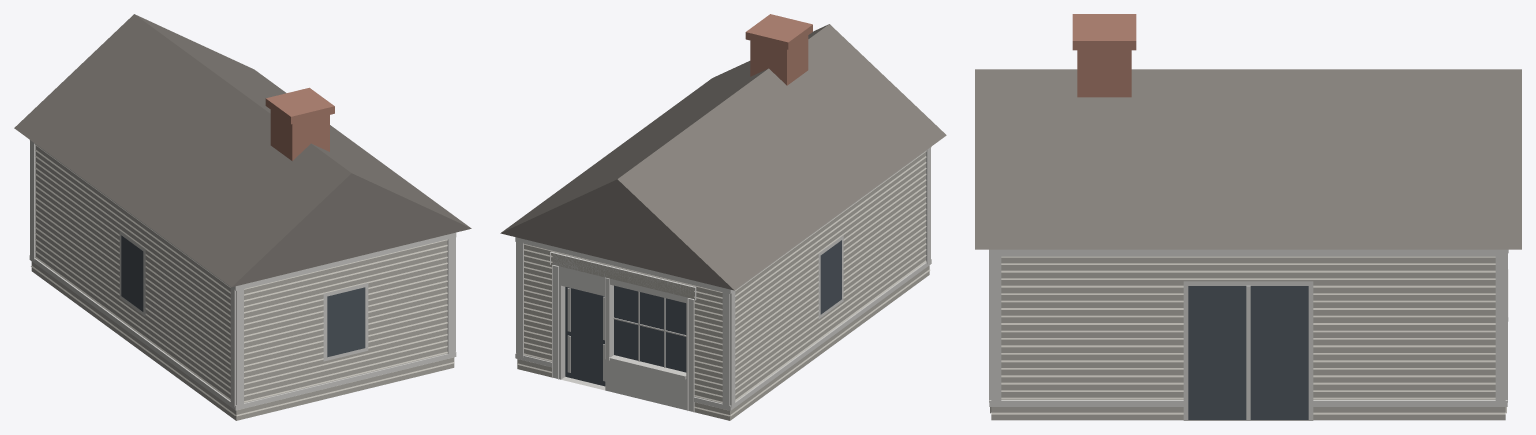
Rendered from recon_1835_west_007__inferred_1835.glb.
The picture shows the model from 3 angles, left to right: view 1: azimuth 30°, elevation 25°; view 2: azimuth 150°, elevation 25°; view 3: azimuth 270°, elevation 25°; orthographic projection. The views are drawn at different scales.
Visible parts, largest first — view 1: recon_1835_west_007__inferred_1835; view 2: recon_1835_west_007__inferred_1835; view 3: recon_1835_west_007__inferred_1835.
Part boxes in pixels (left/top/right/bottom): recon_1835_west_007__inferred_1835: left=14, top=14, right=471, bottom=420; recon_1835_west_007__inferred_1835: left=500, top=14, right=946, bottom=420; recon_1835_west_007__inferred_1835: left=975, top=14, right=1521, bottom=420.
Size of the model in its own units: 5.38 by 5.54 by 8.43.
